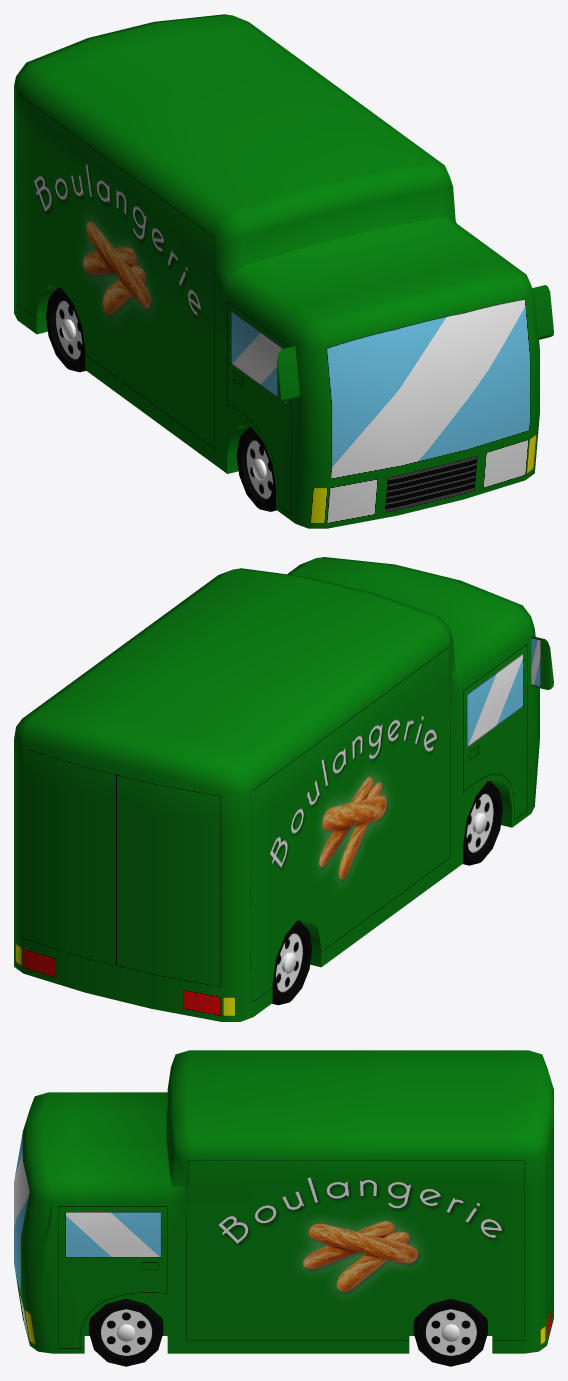
Rendered from vhc_camion_01.FBX.
The picture shows the model from 3 angles, top to bottom: view 1: azimuth 30°, elevation 25°; view 2: azimuth 150°, elevation 25°; view 3: azimuth 270°, elevation 25°; orthographic projection. The views are drawn at different scales.
Visible parts, largest first — view 1: camion_001; view 2: camion_001; view 3: camion_001.
Part boxes in pixels (<box>): camion_001: <box>14,14,553,528</box>; camion_001: <box>14,557,553,1021</box>; camion_001: <box>14,1050,553,1366</box>.
Size of the model in its own units: 2.89 by 2.79 by 5.82.
